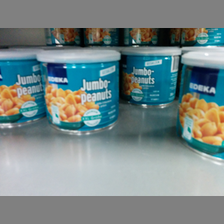nuts: (36, 49, 121, 135), (174, 51, 224, 160), (119, 46, 182, 110), (1, 50, 46, 128)
